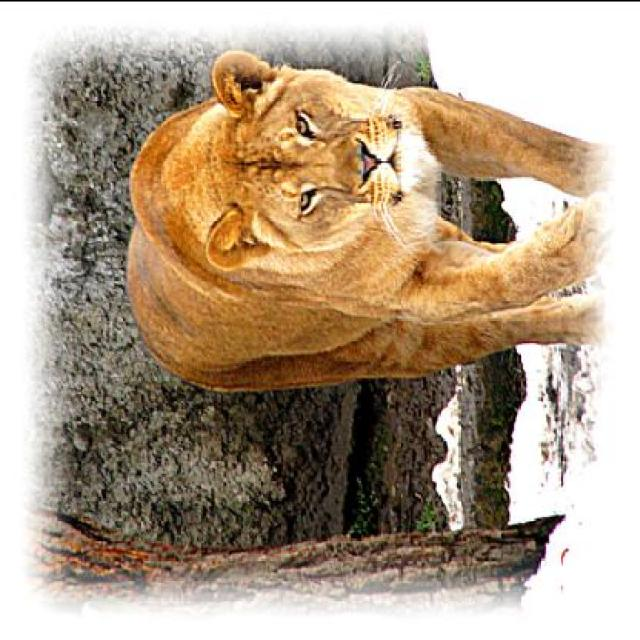Lion: (108, 51, 622, 417)
